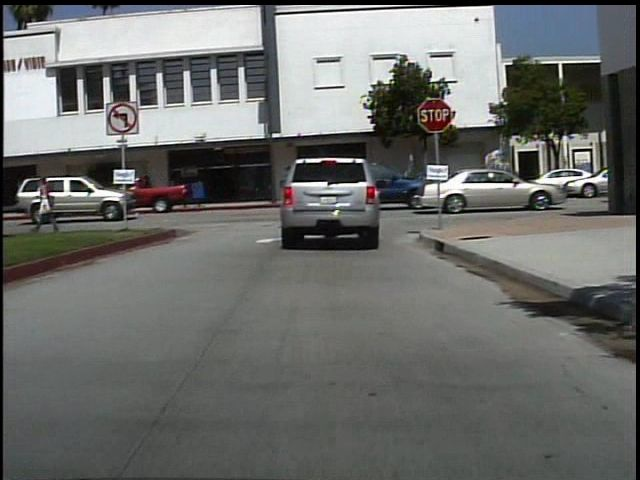person: (30, 172, 67, 237), (274, 160, 304, 237), (140, 172, 163, 211), (163, 172, 182, 208)
